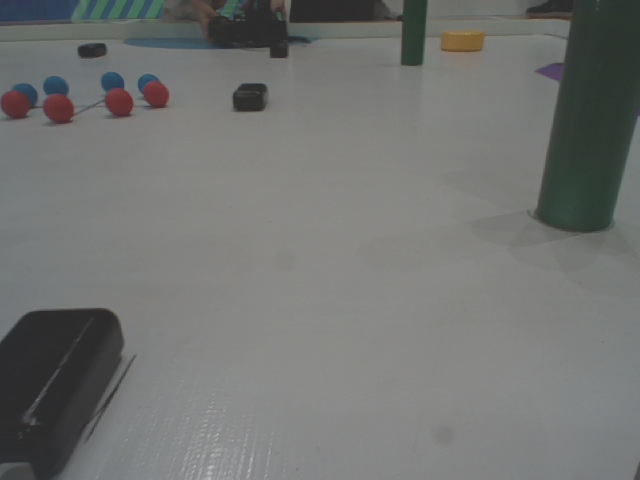black: (1, 302, 129, 476), (234, 82, 268, 108), (78, 39, 107, 56)
blue: (10, 80, 37, 107), (42, 75, 70, 97), (99, 71, 123, 91), (138, 75, 161, 93)
red: (41, 93, 81, 127), (104, 89, 137, 116), (1, 91, 30, 118), (142, 82, 171, 105)
yellow: (438, 29, 486, 50)
zhuzi: (535, 1, 636, 234), (396, 1, 429, 71)
